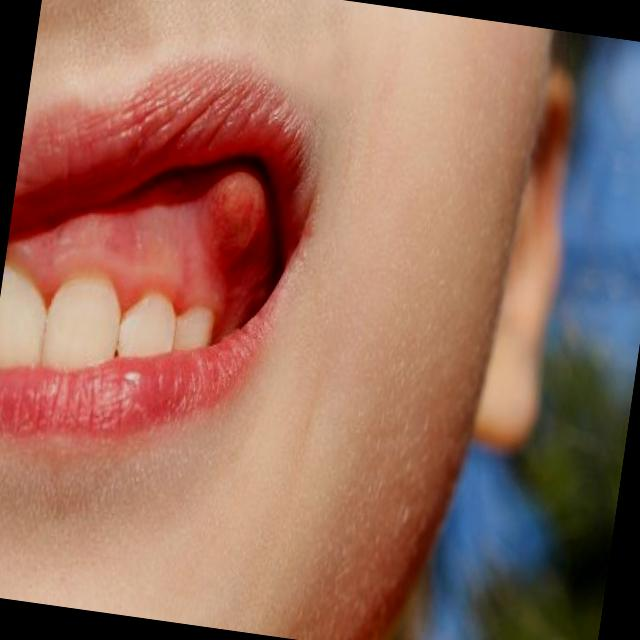abscess: (176, 156, 292, 264)
